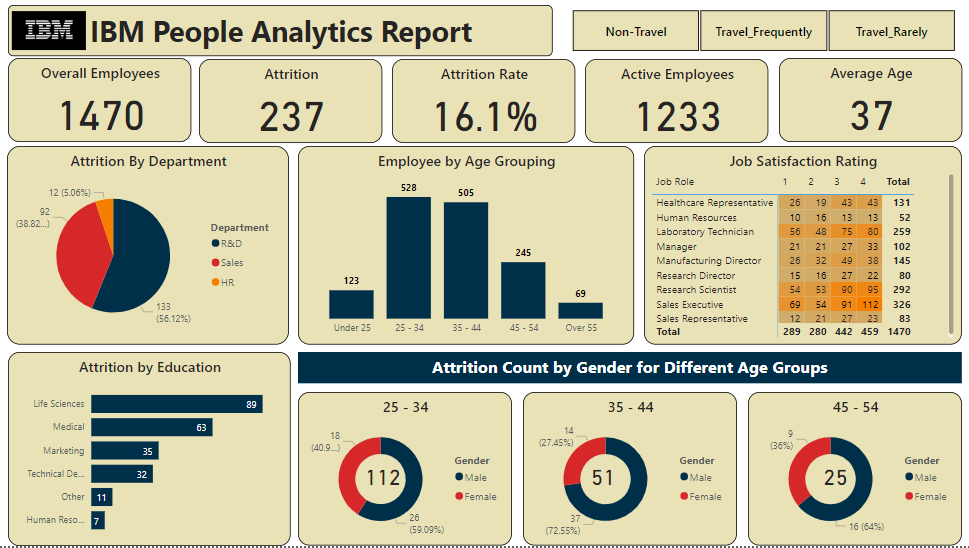

Layout of this report page (visuals, bound fields, positions):
{"tool":"powerbi","page":{"name":"HR_Analytics","canvas":[1280,720],"ordinal":0},"visuals":[{"type":"card","title":"Overall Employees","fields":{"Values":["Sum(HR data.Employee Count)"]},"box":[17.1,81.4,240,110],"z":0},{"type":"card","title":"Attrition","fields":{"Values":["Sum(HR data.Attrition Count1)"]},"box":[267.5,81.9,240,110],"z":1000},{"type":"card","title":"Attrition Rate","fields":{"Values":["HR data.Attrition Rate1"]},"box":[520,81.9,240,110],"z":2000},{"type":"card","title":"Active Employees","fields":{"Values":["HR data.Active Employees2"]},"box":[772.5,81.9,240,110],"z":3000},{"type":"card","title":"Average Age","fields":{"Values":["Avg(HR data.Age)"]},"box":[1025.7,81.4,240,110],"z":4000},{"type":"pieChart","title":"Attrition By Department","fields":{"Y":["Sum(HR data.Attrition Count1)"],"Category":["HR data.Department"]},"box":[15.7,195.7,368.6,260],"z":5000},{"type":"columnChart","title":" Employee by Age Grouping","fields":{"Category":["HR data.Age Grouping"],"Y":["Sum(HR data.Employee Count)"]},"box":[397.1,195.7,440,260],"z":6000},{"type":"pivotTable","title":"Job Satisfaction Rating","fields":{"Rows":["HR data.Job Role"],"Columns":["HR data.Job Satisfaction"],"Values":["CountNonNull(HR data.Job Satisfaction)"]},"box":[850,195.7,415.7,260],"z":7000},{"type":"barChart","title":"Attrition by Education","fields":{"Y":["Sum(HR data.Attrition Count1)"],"Category":["HR data.Education Field"]},"box":[17.1,465.7,370,254.3],"z":8000},{"type":"donutChart","title":"25 - 34","fields":{"Y":["Sum(HR data.Attrition Count1)"],"Category":["HR data.Gender"]},"box":[397.1,518.6,280,201.4],"z":9000},{"type":"textbox","box":[397.1,465.7,868.6,41.4],"z":10000},{"type":"donutChart","title":"35 - 44","fields":{"Y":["Sum(HR data.Attrition Count1)"],"Category":["HR data.Gender"]},"box":[691.4,518.6,280,201.4],"z":11000},{"type":"donutChart","title":"45 - 54","fields":{"Y":["Sum(HR data.Attrition Count1)"],"Category":["HR data.Gender"]},"box":[985.7,518.6,280,201.4],"z":12000},{"type":"card","fields":{"Values":["Sum(HR data.Attrition Count)"]},"box":[465.7,592.9,82.9,71.4],"z":13000},{"type":"slicer","fields":{"Values":["HR data.Business Travel"]},"box":[730,11.4,550,67.1],"z":14000},{"type":"textbox","box":[17.1,11.4,712.9,67.1],"z":15000},{"type":"image","box":[17,11.8,107.3,66.8],"z":16000},{"type":"card","fields":{"Values":["Sum(HR data.Attrition Count)"]},"box":[754.3,592.9,82.9,71.4],"z":17000},{"type":"card","fields":{"Values":["Sum(HR data.Attrition Count)"]},"box":[1058.6,592.9,82.9,71.4],"z":18000}]}

Visuals, with their boxes in screenshot pixels (x1, y1, x2, y2), scaled from the page's 1280x720 canvas onto the 969x548 screenshot:
"Overall Employees" card: (left=13, top=62, right=195, bottom=146)
"Attrition" card: (left=203, top=62, right=384, bottom=146)
"Attrition Rate" card: (left=394, top=62, right=575, bottom=146)
"Active Employees" card: (left=585, top=62, right=766, bottom=146)
"Average Age" card: (left=776, top=62, right=958, bottom=146)
"Attrition By Department" pieChart: (left=12, top=149, right=291, bottom=347)
" Employee by Age Grouping" columnChart: (left=301, top=149, right=634, bottom=347)
"Job Satisfaction Rating" pivotTable: (left=643, top=149, right=958, bottom=347)
"Attrition by Education" barChart: (left=13, top=354, right=293, bottom=547)
"25 - 34" donutChart: (left=301, top=395, right=513, bottom=547)
textbox: (left=301, top=354, right=958, bottom=386)
"35 - 44" donutChart: (left=523, top=395, right=735, bottom=547)
"45 - 54" donutChart: (left=746, top=395, right=958, bottom=547)
card - Sum(HR data.Attrition Count): (left=353, top=451, right=415, bottom=506)
slicer - HR data.Business Travel: (left=553, top=9, right=968, bottom=60)
textbox: (left=13, top=9, right=553, bottom=60)
image: (left=13, top=9, right=94, bottom=60)
card - Sum(HR data.Attrition Count): (left=571, top=451, right=634, bottom=506)
card - Sum(HR data.Attrition Count): (left=801, top=451, right=864, bottom=506)
